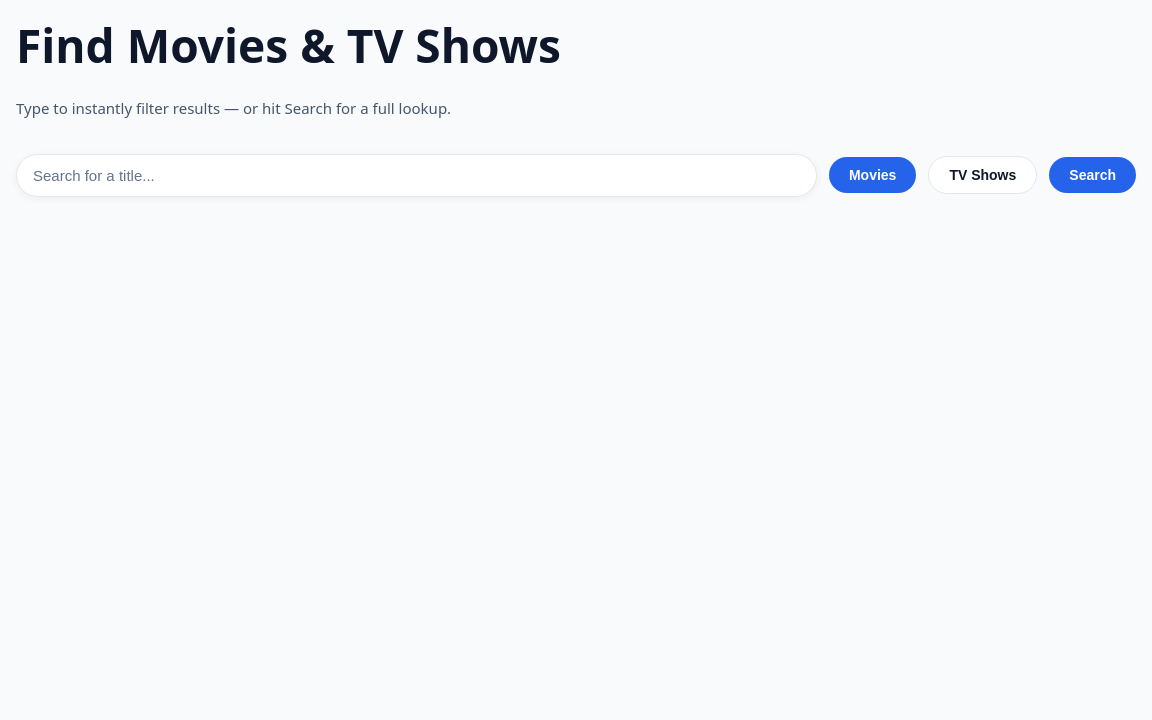
it: SearchPage – successful movie search › handles a result with an empty release_date without crashing
This screenshot has width=1152, height=720.
Step 1. Type "no date" into the field → (416, 175), box [16,154,817,196]
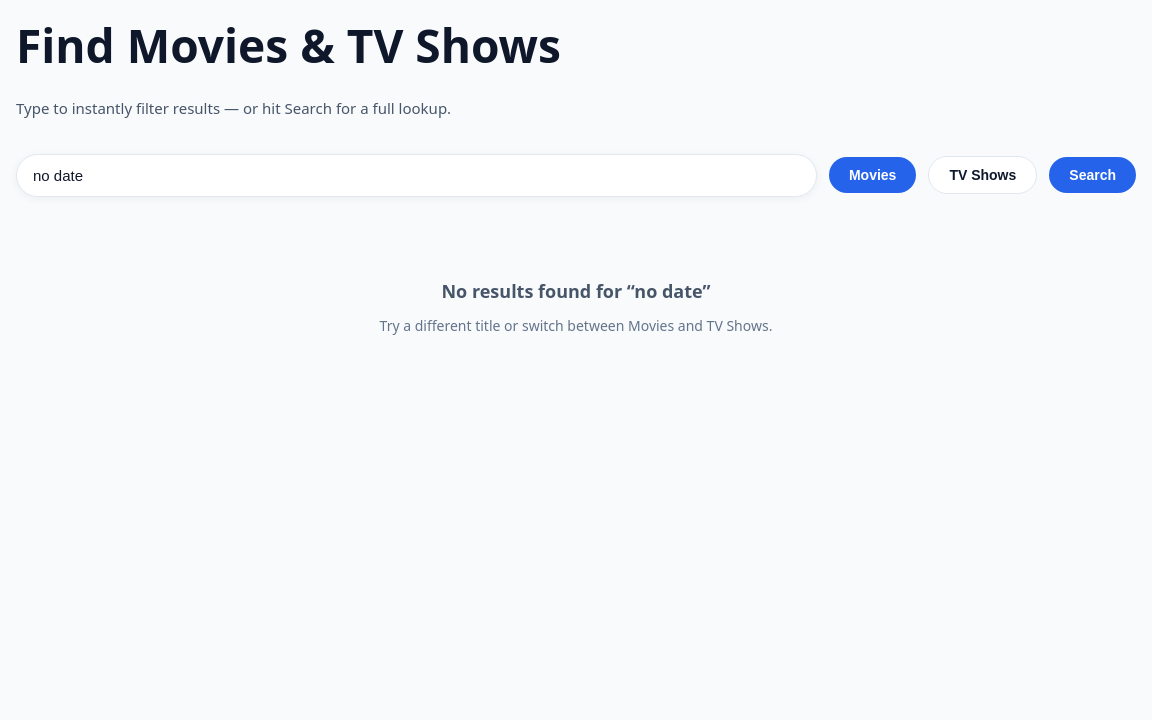
Step 2. Click the button "Movies" → (873, 175), box [829,157,916,193]
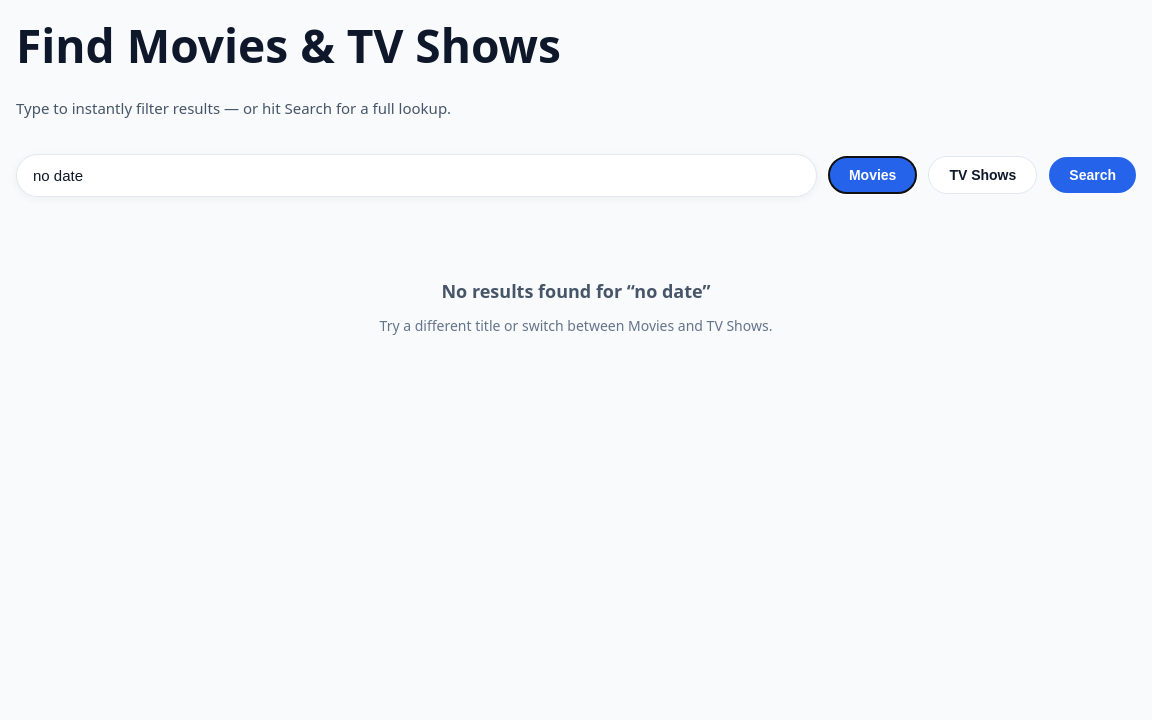
Step 3. Click the button "Search" → (1093, 175), box [1049,157,1136,193]
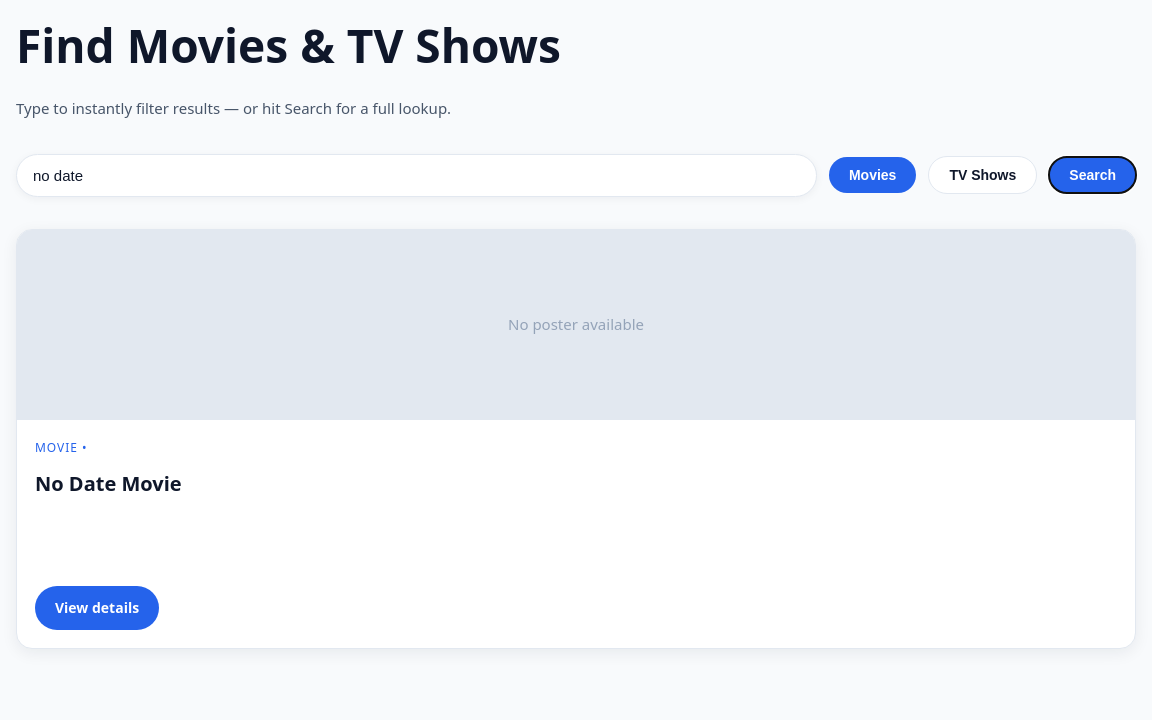
Expected: the heading "No Date Movie" is shown, [35,470,182,497]
